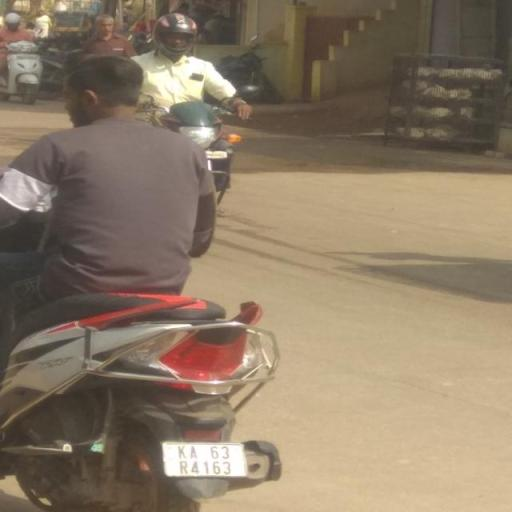bike: (1, 49, 284, 512)
numberplate: (166, 442, 250, 478)
withouthelmet: (69, 57, 141, 120)
